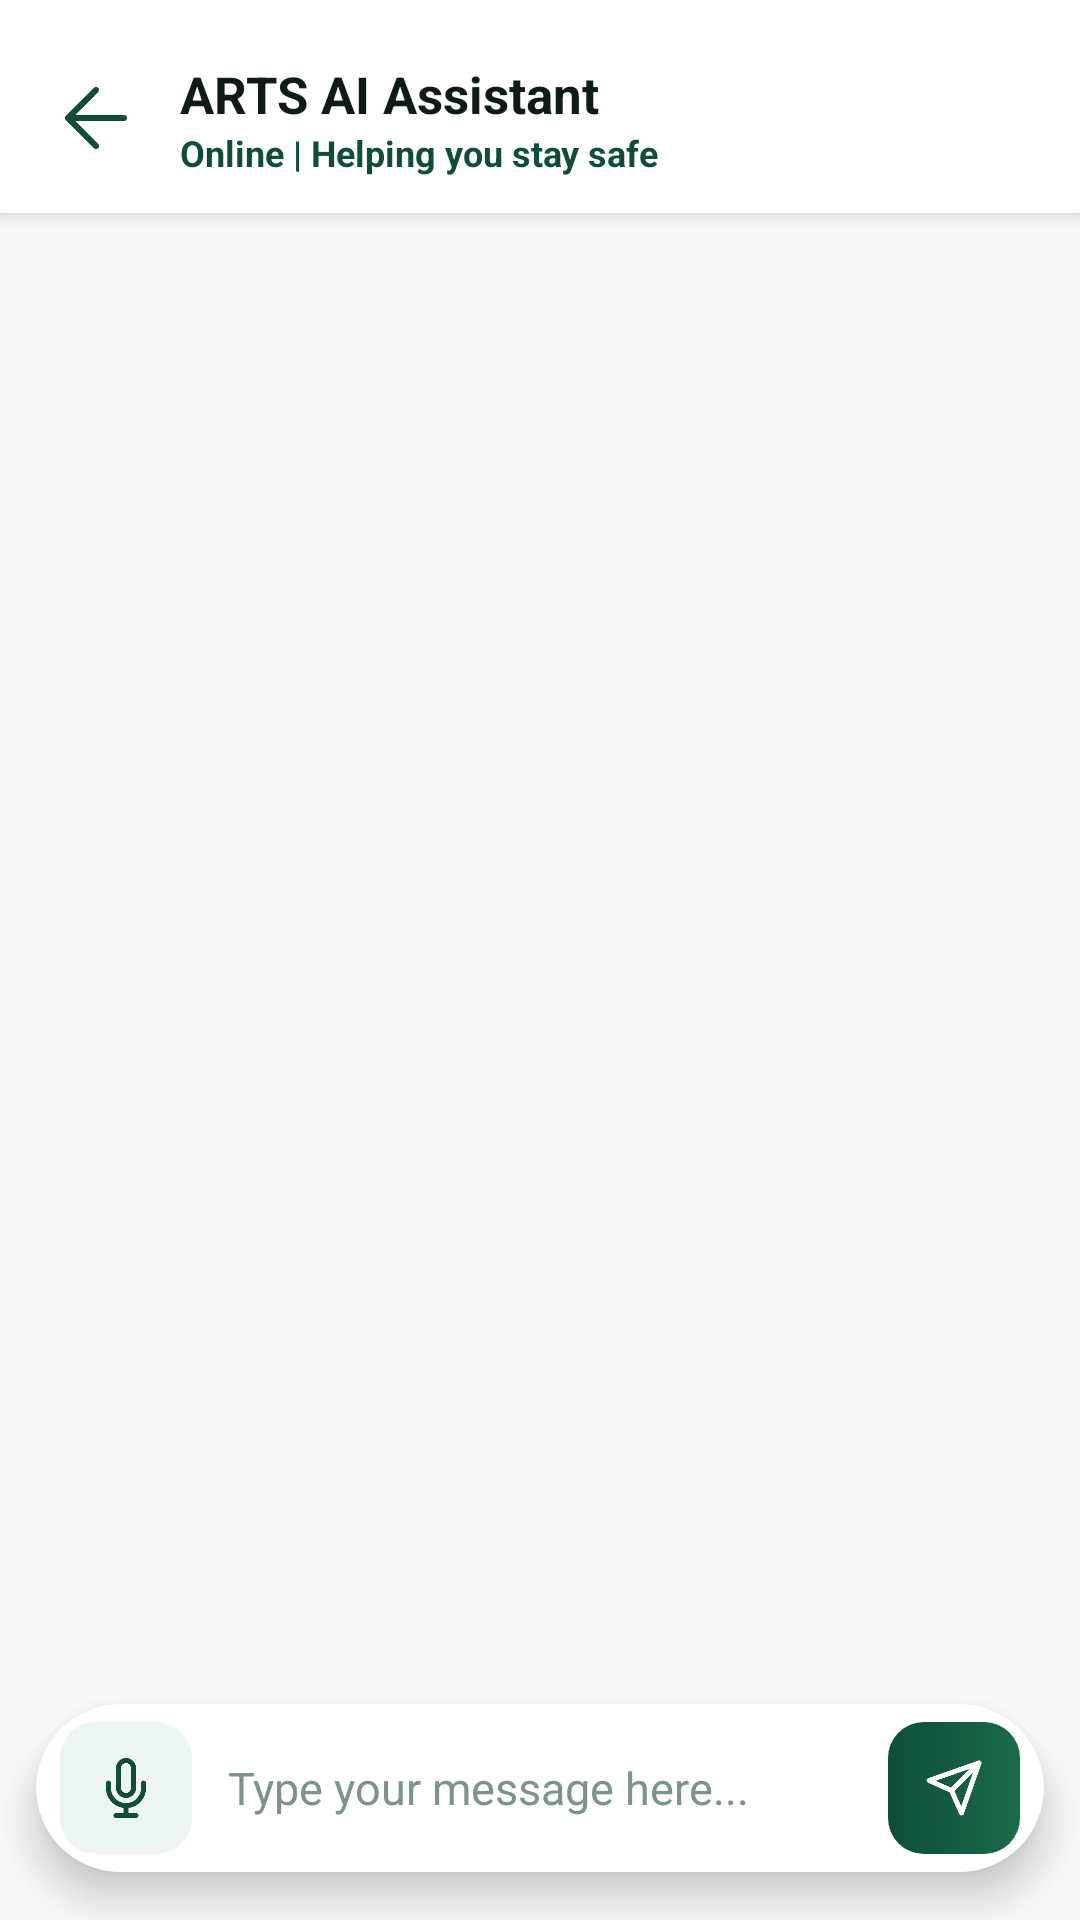

Where to tap for icons on this 1080 x 1920 app screen, as (x,y):
back: (96,118)
mic: (126,1788)
send: (954,1788)
